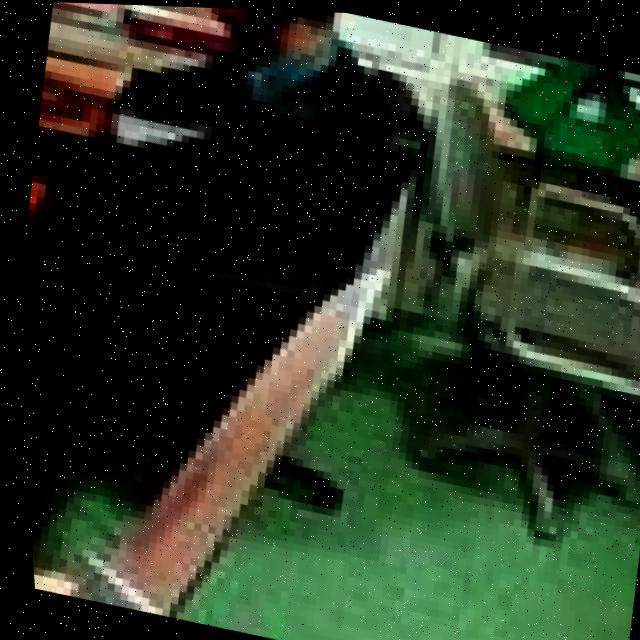knife: (49, 204, 405, 640)
